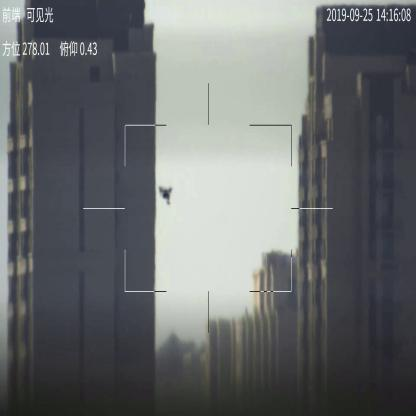uav: (156, 184, 174, 208)
